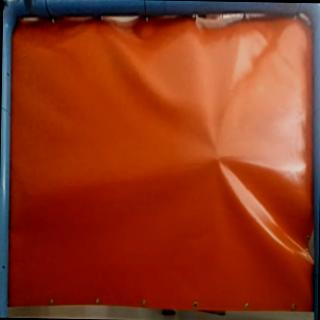Hit-hRxx: (209, 150, 228, 168)
